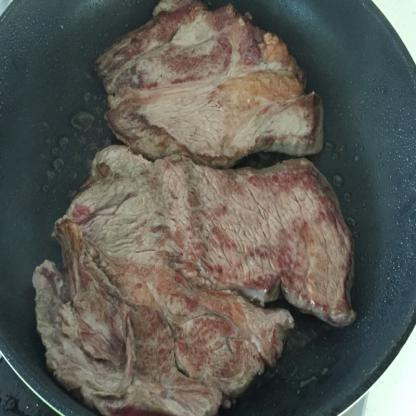Carne: (56, 142, 354, 329), (30, 244, 296, 415), (98, 0, 329, 158)
